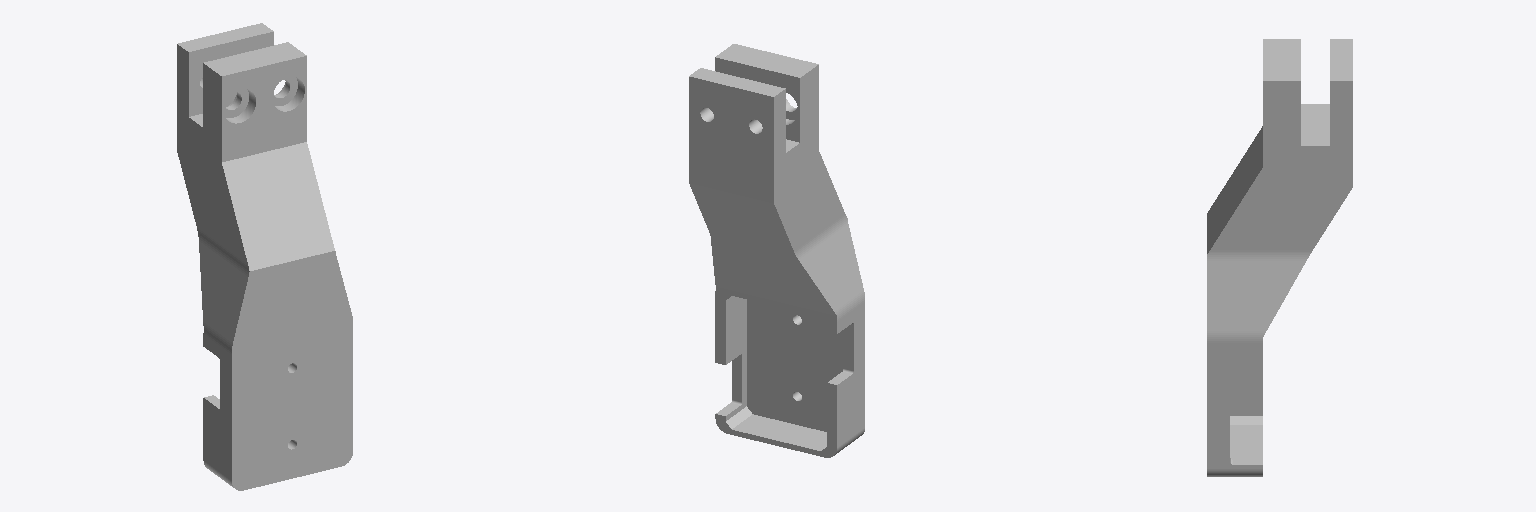
File: panda_adapter_gsmini.obj
3 renders of one model, left to right at view 1: azimuth 30°, elevation 25°; view 2: azimuth 150°, elevation 25°; view 3: azimuth 270°, elevation 25°, orthographic.
Parts seen in each view (by area): view 1: mesh29, mesh14, mesh20, mesh13, mesh17, mesh35, mesh25, mesh6, mesh21, mesh16; view 2: mesh46, mesh22, mesh26, mesh20, mesh17, mesh35, mesh45, mesh54, mesh5, mesh50, mesh6, mesh49 (+2 smaller); view 3: mesh19, mesh18, mesh53, mesh14, mesh6, mesh7, mesh45, mesh15, mesh21, mesh23.
Boxes of the visible parts, <box> form: mesh29: <box>232,251,352,490</box>; mesh14: <box>222,142,334,270</box>; mesh20: <box>177,44,247,263</box>; mesh13: <box>222,56,306,161</box>; mesh17: <box>199,241,247,342</box>; mesh35: <box>203,334,231,480</box>; mesh25: <box>189,32,273,116</box>; mesh6: <box>204,42,306,75</box>; mesh21: <box>178,23,273,51</box>; mesh16: <box>197,228,249,276</box>; mesh46: <box>747,300,843,431</box>; mesh22: <box>689,183,836,315</box>; mesh26: <box>689,77,773,203</box>; mesh20: <box>774,65,844,250</box>; mesh17: <box>799,224,863,311</box>; mesh35: <box>837,302,864,447</box>; mesh45: <box>732,414,826,450</box>; mesh54: <box>726,296,746,420</box>; mesh5: <box>715,57,799,142</box>; mesh50: <box>715,287,836,364</box>; mesh6: <box>716,44,818,77</box>; mesh49: <box>715,383,836,457</box>; mesh19: <box>1211,81,1352,249</box>; mesh18: <box>1207,261,1305,330</box>; mesh53: <box>1207,343,1262,468</box>; mesh14: <box>1207,126,1262,253</box>; mesh6: <box>1263,39,1300,80</box>; mesh7: <box>1301,104,1329,145</box>; mesh45: <box>1230,425,1262,459</box>; mesh15: <box>1207,250,1312,260</box>; mesh21: <box>1330,39,1352,80</box>; mesh23: <box>1207,331,1265,342</box>.
Bounding box in the file's own units: 0.03 × 0.0922 × 0.0311.